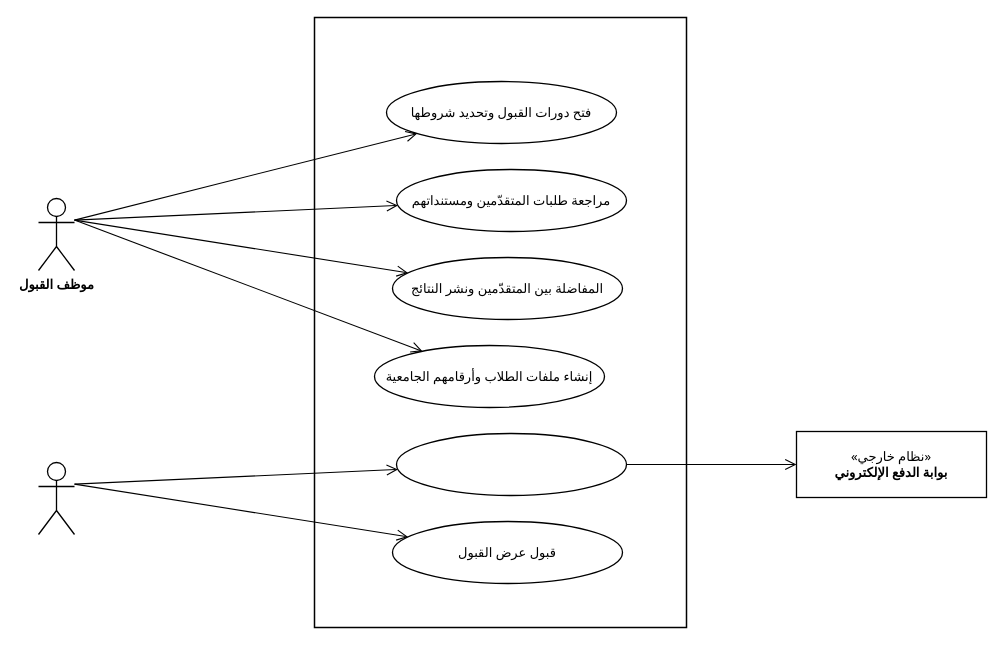
The diagram is 1005 pixels wide and 646 high, and some of its shapes have lost their labels. Here are the shapes that lost their labels. From the top down, the box of each, then its label:
(313, 16, 687, 628): نظام OptiTime
(395, 432, 627, 496): تقديم طلب الالتحاق ودفع رسومه
(37, 461, 75, 535): المتقدّم للقبول
